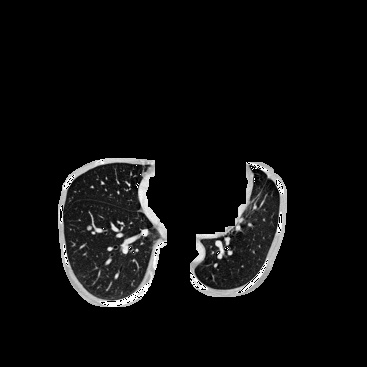PN: (87, 226, 91, 230)
